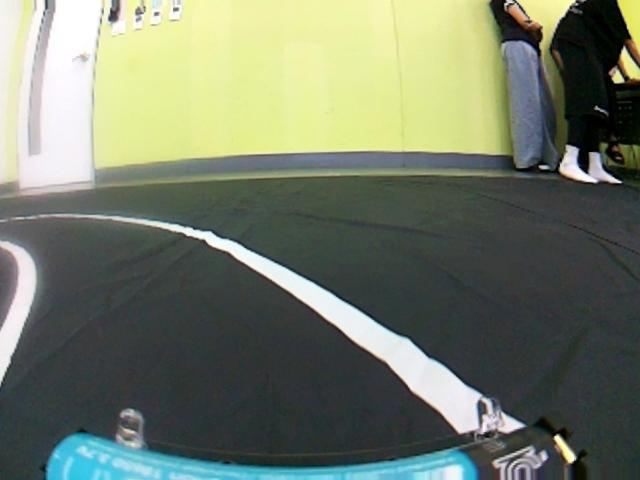left: (0, 201, 602, 479)
